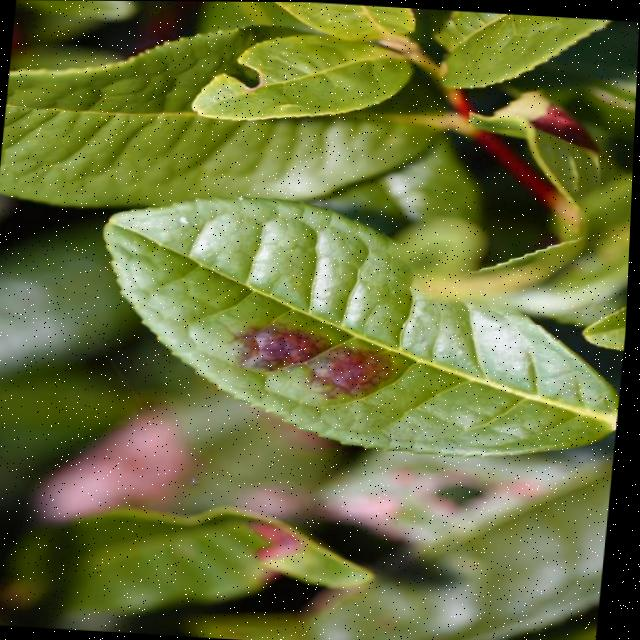Tea exobasidium blight: (226, 314, 396, 400)
